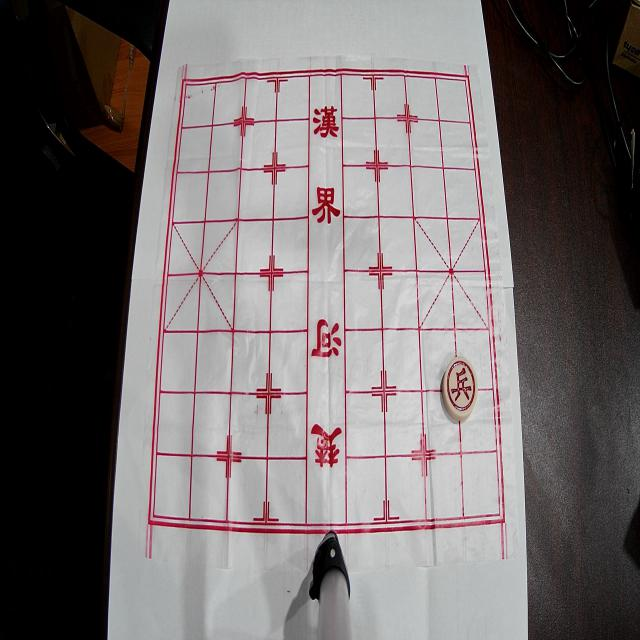red-soldier: (442, 356, 478, 420)
